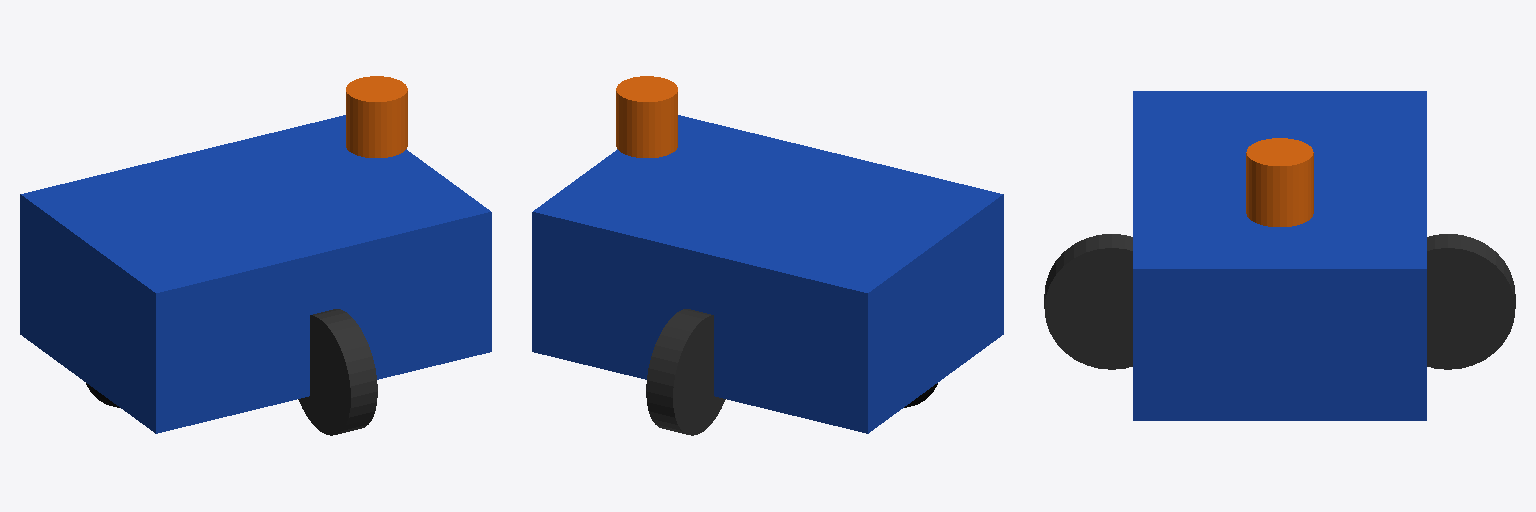
robot.urdf — demo_robot:
<?xml version="1.0"?>
<robot name="demo_robot">
  <link name="base_link">
    <visual>
      <origin xyz="0 0 0" rpy="0 0 0" />
      <geometry>
        <box size="0.50 0.35 0.20" />
      </geometry>
      <material name="blue">
        <color rgba="0.15 0.35 0.75 1.0" />
      </material>
    </visual>
    <collision>
      <origin xyz="0 0 0" rpy="0 0 0" />
      <geometry>
        <box size="0.50 0.35 0.20" />
      </geometry>
    </collision>
  </link>

  <link name="left_wheel_link">
    <inertial>
      <mass value="0.1" />
      <origin xyz="0 0 0" rpy="0 0 0" />
      <inertia ixx="0.01" ixy="0.0" ixz="0.0" iyy="0.01" iyz="0.0" izz="0.01" />
    </inertial>
    <visual>
      <origin xyz="0 0 0" rpy="0 1.5707 0" />
      <geometry>
        <cylinder length="0.04" radius="0.08" />
      </geometry>
      <material name="gray">
        <color rgba="0.25 0.25 0.25 1.0" />
      </material>
    </visual>
    <collision>
      <origin xyz="0 0 0" rpy="0 1.5707 0" />
      <geometry>
        <cylinder length="0.04" radius="0.08" />
      </geometry>
    </collision>
  </link>

  <joint name="left_wheel_joint" type="fixed">
    <parent link="base_link" />
    <child link="left_wheel_link" />
    <origin xyz="0.00 0.20 -0.06" rpy="0 0 0" />
  </joint>

  <link name="right_wheel_link">
    <inertial>
      <mass value="0.1" />
      <origin xyz="0 0 0" rpy="0 0 0" />
      <inertia ixx="0.01" ixy="0.0" ixz="0.0" iyy="0.01" iyz="0.0" izz="0.01" />
    </inertial>
    <visual>
      <origin xyz="0 0 0" rpy="0 1.5707 0" />
      <geometry>
        <cylinder length="0.04" radius="0.08" />
      </geometry>
      <material name="gray">
        <color rgba="0.25 0.25 0.25 1.0" />
      </material>
    </visual>
    <collision>
      <origin xyz="0 0 0" rpy="0 1.5707 0" />
      <geometry>
        <cylinder length="0.04" radius="0.08" />
      </geometry>
    </collision>
  </link>

  <joint name="right_wheel_joint" type="fixed">
    <parent link="base_link" />
    <child link="right_wheel_link" />
    <origin xyz="0.00 -0.20 -0.06" rpy="0 0 0" />
  </joint>

  <link name="caster_link">
    <inertial>
      <mass value="0.05" />
      <origin xyz="0 0 0" rpy="0 0 0" />
      <inertia ixx="0.001" ixy="0.0" ixz="0.0" iyy="0.001" iyz="0.0" izz="0.001" />
    </inertial>
    <visual>
      <geometry>
        <sphere radius="0.05" />
      </geometry>
      <material name="black">
        <color rgba="0.08 0.08 0.08 1.0" />
      </material>
    </visual>
    <collision>
      <geometry>
        <sphere radius="0.05" />
      </geometry>
    </collision>
  </link>

  <joint name="caster_joint" type="fixed">
    <parent link="base_link" />
    <child link="caster_link" />
    <origin xyz="-0.20 0.00 -0.09" rpy="0 0 0" />
  </joint>

  <link name="lidar_link">
    <inertial>
      <mass value="0.02" />
      <origin xyz="0 0 0" rpy="0 0 0" />
      <inertia ixx="0.0001" ixy="0.0" ixz="0.0" iyy="0.0001" iyz="0.0" izz="0.0001" />
    </inertial>
    <visual>
      <geometry>
        <cylinder length="0.08" radius="0.04" />
      </geometry>
      <material name="orange">
        <color rgba="0.9 0.45 0.1 1.0" />
      </material>
    </visual>
    <collision>
      <geometry>
        <cylinder length="0.08" radius="0.04" />
      </geometry>
    </collision>
  </link>

  <joint name="lidar_joint" type="fixed">
    <parent link="base_link" />
    <child link="lidar_link" />
    <origin xyz="0.18 0.00 0.18" rpy="0 0 0" />
  </joint>
</robot>

--- What the picture shows (computed from the rendered views, not written in the file) ---
The picture shows the robot from 3 angles, left to right: view 1: azimuth 30°, elevation 25°; view 2: azimuth 150°, elevation 25°; view 3: azimuth 270°, elevation 25°; orthographic projection.
Robot: demo_robot — 5 links, 4 joints (4 fixed); root link base_link; default pose: every joint at zero.
Visible links, largest first — view 1: base_link, right_wheel_link, lidar_link; view 2: base_link, left_wheel_link, lidar_link; view 3: base_link, left_wheel_link, right_wheel_link, lidar_link.
Link boxes in pixels (x1,y1,x2,y2): base_link: (20, 115, 491, 433); right_wheel_link: (298, 309, 377, 435); lidar_link: (346, 76, 407, 157); base_link: (532, 115, 1003, 433); left_wheel_link: (646, 309, 725, 435); lidar_link: (616, 76, 677, 157); base_link: (1133, 91, 1426, 420); left_wheel_link: (1427, 234, 1515, 369); right_wheel_link: (1044, 234, 1132, 369); lidar_link: (1246, 138, 1313, 226).
Size in the robot's own frame: 0.5 by 0.56 by 0.36 metres.
Geometry: primitives only (box / cylinder / sphere), no mesh files.
